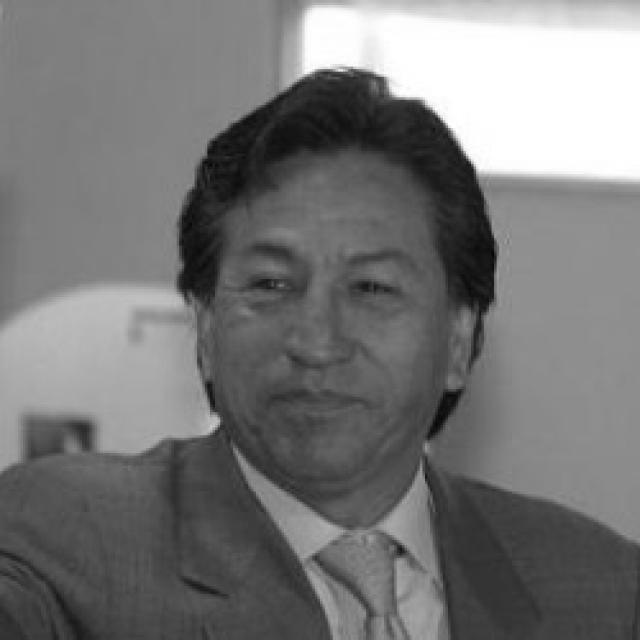real: (191, 145, 450, 483), (234, 261, 412, 317)
